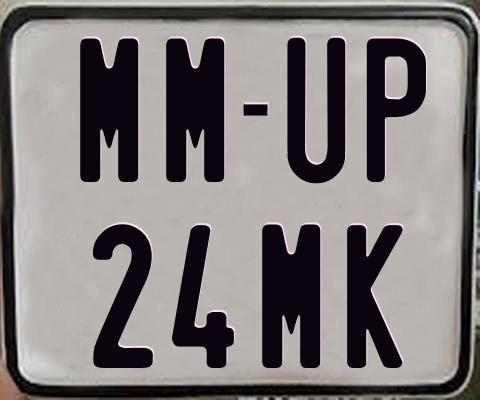2: (90, 221, 152, 365)
4: (172, 225, 236, 369)
K: (347, 224, 403, 368)
M: (260, 224, 321, 373), (166, 38, 226, 184), (80, 38, 139, 183)
P: (366, 38, 431, 187)
U: (287, 36, 350, 188)
